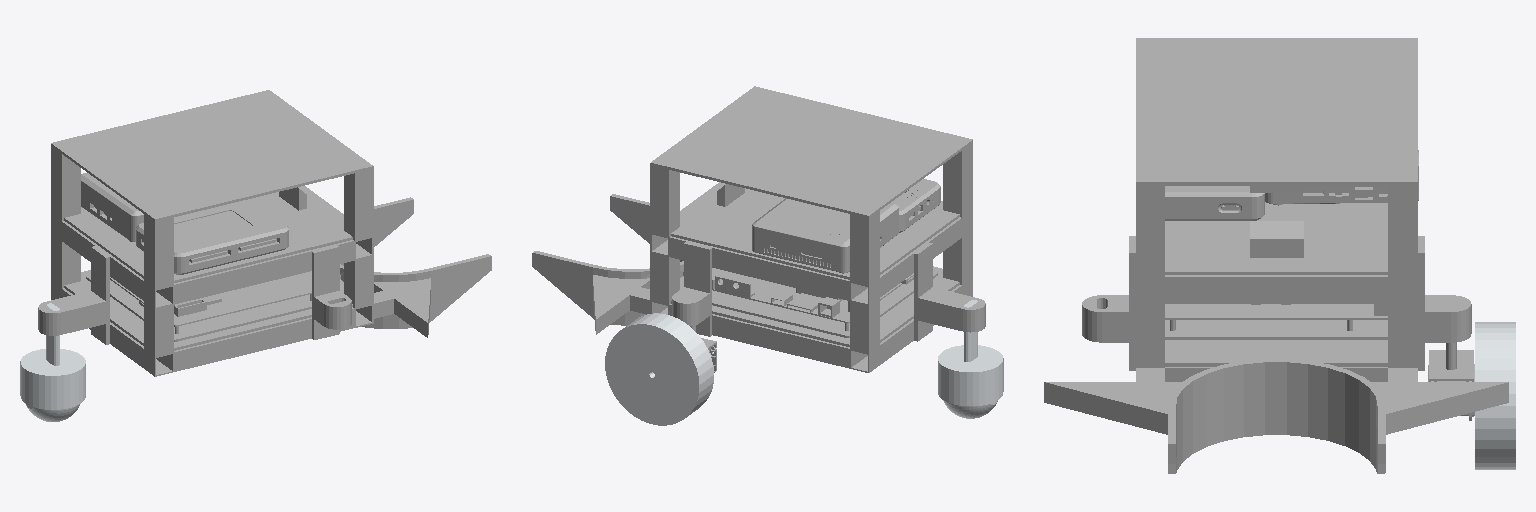
URDF robot description (lide):
<?xml version="1.0" encoding="utf-8"?>
<!-- This URDF was automatically created by SolidWorks to URDF Exporter! Originally created by [author] ([email redacted]) 
     Commit Version: 1.5.1-0-g916b5db  Build Version: 1.5.7152.31018
     For more information, please see http://wiki.ros.org/sw_urdf_exporter -->
<robot
  name="lide">
  <link
    name="base_link">
    <inertial>
      <origin
        xyz="-0.12668 0.10699 0.073163"
        rpy="0 0 0" />
      <mass
        value="2.7902" />
      <inertia
        ixx="0.0061691"
        ixy="-6.7175E-07"
        ixz="-2.4056E-05"
        iyy="0.00564"
        iyz="-1.54E-07"
        izz="0.011177" />
    </inertial>
    <visual>
      <origin
        xyz="0 0 0"
        rpy="0 0 0" />
      <geometry>
        <mesh
          filename="package://lide/meshes/base_link.STL" />
      </geometry>
      <material
        name="">
        <color
          rgba="0.75294 0.75294 0.75294 1" />
      </material>
    </visual>
    <collision>
      <origin
        xyz="0 0 0"
        rpy="0 0 0" />
      <geometry>
        <mesh
          filename="package://lide/meshes/base_link.STL" />
      </geometry>
    </collision>
  </link>
  <link
    name="LFS">
    <inertial>
      <origin
        xyz="0.0455604268709419 0.00830943309140333 0.00297622851896683"
        rpy="0 0 0" />
      <mass
        value="0.0727928435161986" />
      <inertia
        ixx="2.20927876796312E-05"
        ixy="-1.64845302056298E-08"
        ixz="-1.56454773175219E-07"
        iyy="1.62632133784213E-05"
        iyz="2.96411876511222E-09"
        izz="1.80843397531752E-05" />
    </inertial>
    <visual>
      <origin
        xyz="0 0 0"
        rpy="0 0 0" />
      <geometry>
        <mesh
          filename="package://lide/meshes/LFS.STL" />
      </geometry>
      <material
        name="">
        <color
          rgba="0.752941176470588 0.752941176470588 0.752941176470588 1" />
      </material>
    </visual>
    <collision>
      <origin
        xyz="0 0 0"
        rpy="0 0 0" />
      <geometry>
        <mesh
          filename="package://lide/meshes/LFS.STL" />
      </geometry>
    </collision>
  </link>
  <joint
    name="LFS"
    type="fixed">
    <origin
      xyz="-0.059044 0.1894 -0.014503"
      rpy="1.5708 0 1.5708" />
    <parent
      link="base_link" />
    <child
      link="LFS" />
    <axis
      xyz="0 0 0" />
    <limit
      lower="0"
      upper="0"
      effort="0"
      velocity="0" />
  </joint>
  <link
    name="LFW">
    <inertial>
      <origin
        xyz="0.015 -6.93889390390723E-18 0"
        rpy="0 0 0" />
      <mass
        value="0.767080911081153" />
      <inertia
        ixx="0.00116426102407189"
        ixy="-1.25105048588131E-22"
        ixz="-1.83311841364852E-20"
        iyy="0.000639661580367031"
        iyz="-6.7762635780344E-21"
        izz="0.000639661580367032" />
    </inertial>
    <visual>
      <origin
        xyz="0 0 0"
        rpy="0 0 0" />
      <geometry>
        <mesh
          filename="package://lide/meshes/LFW.STL" />
      </geometry>
      <material
        name="">
        <color
          rgba="0.898039215686275 0.917647058823529 0.929411764705882 1" />
      </material>
    </visual>
    <collision>
      <origin
        xyz="0 0 0"
        rpy="0 0 0" />
      <geometry>
        <mesh
          filename="package://lide/meshes/LFW.STL" />
      </geometry>
    </collision>
  </link>
  <joint
    name="LFW"
    type="continuous">
    <origin
      xyz="0.063346 -0.006798 0.015044"
      rpy="-1.6264 0 0" />
    <parent
      link="LFS" />
    <child
      link="LFW" />
    <axis
      xyz="1 0 0" />
    <limit
      effort="3.1"
      velocity="7" />
  </joint>
  <link
    name="RFS">
    <inertial>
      <origin
        xyz="-0.0191828308457407 -0.00900932874707058 0.0520056318885905"
        rpy="0 0 0" />
      <mass
        value="0.0727928435161986" />
      <inertia
        ixx="2.20927876796313E-05"
        ixy="-1.64845302056308E-08"
        ixz="1.56454773175212E-07"
        iyy="1.62632133784213E-05"
        iyz="-2.96411876510556E-09"
        izz="1.80843397531752E-05" />
    </inertial>
    <visual>
      <origin
        xyz="0 0 0"
        rpy="0 0 0" />
      <geometry>
        <mesh
          filename="package://lide/meshes/RFS.STL" />
      </geometry>
      <material
        name="">
        <color
          rgba="0.752941176470588 0.752941176470588 0.752941176470588 1" />
      </material>
    </visual>
    <collision>
      <origin
        xyz="0 0 0"
        rpy="0 0 0" />
      <geometry>
        <mesh
          filename="package://lide/meshes/RFS.STL" />
      </geometry>
    </collision>
  </link>
  <joint
    name="RFS"
    type="fixed">
    <origin
      xyz="-0.10807 -0.0057812 0.0027844"
      rpy="1.5708 0 1.5708" />
    <parent
      link="base_link" />
    <child
      link="RFS" />
    <axis
      xyz="0 0 0" />
    <limit
      lower="0"
      upper="0"
      effort="0"
      velocity="0" />
  </joint>
  <link
    name="RFW">
    <inertial>
      <origin
        xyz="-0.015 -3.46944695195361E-18 0"
        rpy="0 0 0" />
      <mass
        value="0.767080911081152" />
      <inertia
        ixx="0.00116426102407189"
        ixy="-4.9281223125782E-37"
        ixz="4.60638074444741E-39"
        iyy="0.000639661580367031"
        iyz="-5.25031148738029E-37"
        izz="0.000639661580367031" />
    </inertial>
    <visual>
      <origin
        xyz="0 0 0"
        rpy="0 0 0" />
      <geometry>
        <mesh
          filename="package://lide/meshes/RFW.STL" />
      </geometry>
      <material
        name="">
        <color
          rgba="0.898039215686275 0.917647058823529 0.929411764705882 1" />
      </material>
    </visual>
    <collision>
      <origin
        xyz="0 0 0"
        rpy="0 0 0" />
      <geometry>
        <mesh
          filename="package://lide/meshes/RFW.STL" />
      </geometry>
    </collision>
  </link>
  <joint
    name="RFW"
    type="continuous">
    <origin
      xyz="-0.036969 -0.024084 0.064073"
      rpy="0 0 0" />
    <parent
      link="RFS" />
    <child
      link="RFW" />
    <axis
      xyz="1 0 0" />
    <limit
      effort="3.1"
      velocity="7" />
  </joint>
  <link
    name="BS">
    <inertial>
      <origin
        xyz="0 0.0226404680547426 2.77555756156289E-17"
        rpy="0 0 0" />
      <mass
        value="0.0814336669941267" />
      <inertia
        ixx="7.50476643218914E-05"
        ixy="-1.13573011749649E-20"
        ixz="1.71770564074039E-20"
        iyy="5.07073399734386E-05"
        iyz="-3.71742286816402E-20"
        izz="7.44755694233046E-05" />
    </inertial>
    <visual>
      <origin
        xyz="0 0 0"
        rpy="0 0 0" />
      <geometry>
        <mesh
          filename="package://lide/meshes/BS.STL" />
      </geometry>
      <material
        name="">
        <color
          rgba="0.898039215686275 0.917647058823529 0.929411764705882 1" />
      </material>
    </visual>
    <collision>
      <origin
        xyz="0 0 0"
        rpy="0 0 0" />
      <geometry>
        <mesh
          filename="package://lide/meshes/BS.STL" />
      </geometry>
    </collision>
  </link>
  <joint
    name="BS"
    type="fixed">
    <origin
      xyz="-0.31175 0.105 0.0094377"
      rpy="-1.5708 0 0" />
    <parent
      link="base_link" />
    <child
      link="BS" />
    <axis
      xyz="0 0 0" />
    <limit
      lower="0"
      upper="0"
      effort="0"
      velocity="0" />
  </joint>
  <link
    name="BW">
    <inertial>
      <origin
        xyz="0 0 -6.93889390390723E-18"
        rpy="0 0 0" />
      <mass
        value="0.299097213540614" />
      <inertia
        ixx="0.000107128427988291"
        ixy="1.58897042341279E-20"
        ixz="2.02573307702604E-22"
        iyy="0.000109833959413418"
        iyz="-8.77440292360281E-20"
        izz="0.000107128427988291" />
    </inertial>
    <visual>
      <origin
        xyz="0 0 0"
        rpy="0 0 0" />
      <geometry>
        <mesh
          filename="package://lide/meshes/BW.STL" />
      </geometry>
      <material
        name="">
        <color
          rgba="0.898039215686275 0.917647058823529 0.929411764705882 1" />
      </material>
    </visual>
    <collision>
      <origin
        xyz="0 0 0"
        rpy="0 0 0" />
      <geometry>
        <mesh
          filename="package://lide/meshes/BW.STL" />
      </geometry>
    </collision>
  </link>
  <joint
    name="BW"
    type="fixed">
    <origin
      xyz="0 0.055738 0"
      rpy="1.5708 -1.5708 0" />
    <parent
      link="BS" />
    <child
      link="BW" />
    <axis
      xyz="0 0 0" />
  </joint>
  <link
    name="fcam">
    <inertial>
      <origin
        xyz="-0.0115544746517359 -2.64429642847508E-06 0.00129029302682179"
        rpy="0 0 0" />
      <mass
        value="0.0436119957238952" />
      <inertia
        ixx="2.35707061906175E-05"
        ixy="-1.01842273865761E-09"
        ixz="2.17585832536658E-08"
        iyy="4.29479050056035E-06"
        iyz="-8.85018118760127E-10"
        izz="2.21058153511886E-05" />
    </inertial>
    <visual>
      <origin
        xyz="0 0 0"
        rpy="0 0 0" />
      <geometry>
        <mesh
          filename="package://lide/meshes/fcam.STL" />
      </geometry>
      <material
        name="">
        <color
          rgba="0.792156862745098 0.819607843137255 0.933333333333333 1" />
      </material>
    </visual>
    <collision>
      <origin
        xyz="0 0 0"
        rpy="0 0 0" />
      <geometry>
        <mesh
          filename="package://lide/meshes/fcam.STL" />
      </geometry>
    </collision>
  </link>
  <joint
    name="fcam"
    type="fixed">
    <origin
      xyz="-0.0038823 0.105 0.15182"
      rpy="0 0.2618 0" />
    <parent
      link="base_link" />
    <child
      link="fcam" />
    <axis
      xyz="0 0 0" />
  </joint>
  <link
    name="bcam">
    <inertial>
      <origin
        xyz="-0.02010346452991 -2.64354903288522E-06 -0.00725869505663598"
        rpy="0 0 0" />
      <mass
        value="0.0436119949785286" />
      <inertia
        ixx="2.35707056099601E-05"
        ixy="-1.0183475800564E-09"
        ixz="2.17579332532698E-08"
        iyy="4.29479078276665E-06"
        iyz="-8.8548450396166E-10"
        izz="2.21058144654638E-05" />
    </inertial>
    <visual>
      <origin
        xyz="0 0 0"
        rpy="0 0 0" />
      <geometry>
        <mesh
          filename="package://lide/meshes/bcam.STL" />
      </geometry>
      <material
        name="">
        <color
          rgba="0.792156862745098 0.819607843137255 0.933333333333333 1" />
      </material>
    </visual>
    <collision>
      <origin
        xyz="0 0 0"
        rpy="0 0 0" />
      <geometry>
        <mesh
          filename="package://lide/meshes/bcam.STL" />
      </geometry>
    </collision>
  </link>
  <joint
    name="bcam"
    type="fixed">
    <origin
      xyz="0 0.105 0.11323"
      rpy="0 0.7854 0" />
    <parent
      link="base_link" />
    <child
      link="bcam" />
    <axis
      xyz="0 0 0" />
  </joint>
  <link
    name="Lidar">
    <inertial>
      <origin
        xyz="0.013523359588641 0.000461955982206302 -0.0287648854950511"
        rpy="0 0 0" />
      <mass
        value="0.0730845717569496" />
      <inertia
        ixx="1.95808757419765E-05"
        ixy="-1.03933585736234E-07"
        ixz="-4.28391168396099E-07"
        iyy="2.41250079666672E-05"
        iyz="9.4271020643415E-09"
        izz="4.14184516368183E-05" />
    </inertial>
    <visual>
      <origin
        xyz="0 0 0"
        rpy="0 0 0" />
      <geometry>
        <mesh
          filename="package://lide/meshes/Lidar.STL" />
      </geometry>
      <material
        name="">
        <color
          rgba="0.792156862745098 0.819607843137255 0.933333333333333 1" />
      </material>
    </visual>
    <collision>
      <origin
        xyz="0 0 0"
        rpy="0 0 0" />
      <geometry>
        <mesh
          filename="package://lide/meshes/Lidar.STL" />
      </geometry>
    </collision>
  </link>
  <joint
    name="Lidar"
    type="fixed">
    <origin
      xyz="-0.19458 0.10401 0.2285"
      rpy="0 0 0" />
    <parent
      link="base_link" />
    <child
      link="Lidar" />
    <axis
      xyz="0 0 0" />
  </joint>
  <link
    name="imu_link">
    <inertial>
      <origin
        xyz="0.00385022026093959 6.23984008056022E-05 -0.00103377575234337"
        rpy="0 0 0" />
      <mass
        value="0.00189180567975737" />
      <inertia
        ixx="7.79431263454135E-08"
        ixy="1.39214190556514E-10"
        ixz="1.54511633252899E-11"
        iyy="4.85473464623125E-08"
        iyz="-6.30099051334897E-11"
        izz="1.25233585370532E-07" />
    </inertial>
    <visual>
      <origin
        xyz="0 0 0"
        rpy="0 0 0" />
      <geometry>
        <mesh
          filename="package://lide/meshes/imu_link.STL" />
      </geometry>
      <material
        name="">
        <color
          rgba="0.898039215686275 0.917647058823529 0.929411764705882 1" />
      </material>
    </visual>
    <collision>
      <origin
        xyz="0 0 0"
        rpy="0 0 0" />
      <geometry>
        <mesh
          filename="package://lide/meshes/imu_link.STL" />
      </geometry>
    </collision>
  </link>
  <joint
    name="imu_link"
    type="fixed">
    <origin
      xyz="-0.044 0.105 0.177"
      rpy="0 0 0" />
    <parent
      link="base_link" />
    <child
      link="imu_link" />
    <axis
      xyz="0 0 0" />
  </joint>
</robot>

--- What the picture shows (computed from the rendered views, not written in the file) ---
3 views of the same robot in one strip: view 1: azimuth 30°, elevation 25°; view 2: azimuth 150°, elevation 25°; view 3: azimuth 270°, elevation 25° (orthographic).
Robot: lide — 11 links, 10 joints (2 continuous, 8 fixed); root link base_link; default pose: every joint at zero.
Visible links, largest first — view 1: base_link, BS; view 2: base_link, LFW, BS; view 3: base_link, LFW, LFS.
Boxes of the visible links, x1=… form: base_link: x1=38, y1=90, x2=491, y2=376; BS: x1=20, y1=303, x2=85, y2=409; base_link: x1=532, y1=86, x2=985, y2=372; LFW: x1=605, y1=313, x2=713, y2=425; BS: x1=938, y1=300, x2=1003, y2=405; base_link: x1=1044, y1=38, x2=1508, y2=473; LFW: x1=1475, y1=322, x2=1515, y2=469; LFS: x1=1428, y1=298, x2=1474, y2=420.
Size in the robot's own frame: 0.4958 by 0.3507 by 0.2512 metres.
Meshes: 11 distinct files referenced, 5 mesh visuals loaded (5 binary STL); not drawn: 6 (reference not matched to a file when rendering).